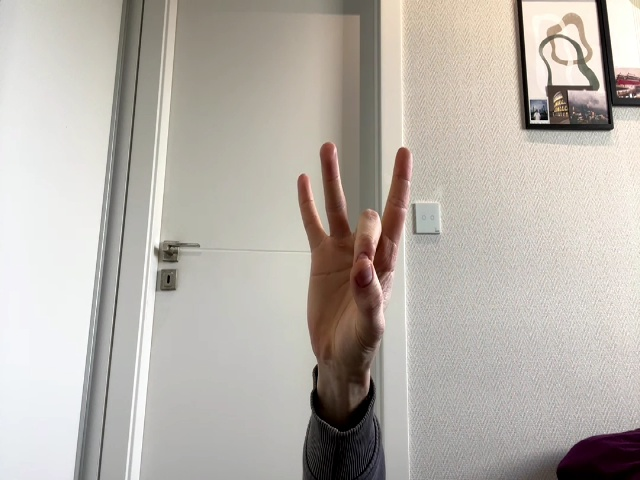G: (297, 143, 412, 359)
